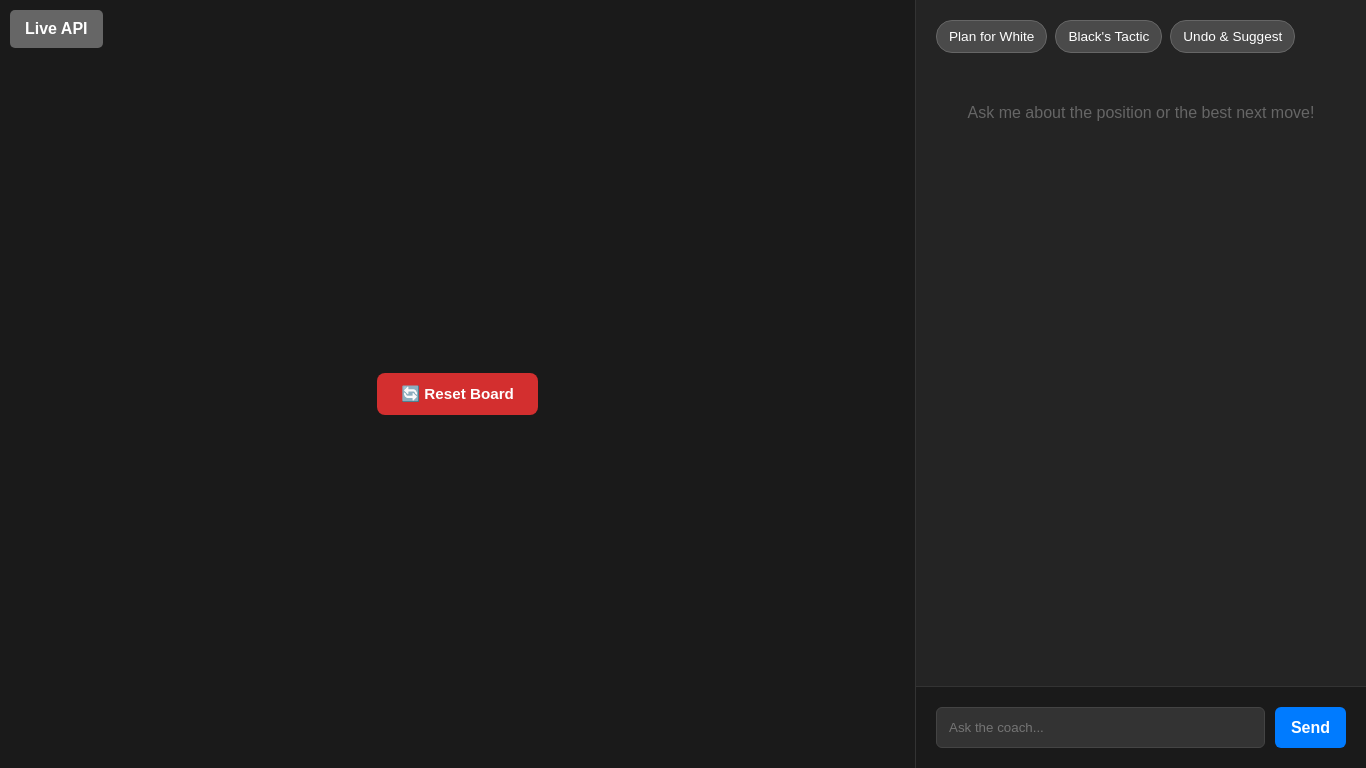
Test: Verification Harness - Desync Detection › VERIFICATION: System handles illegal moves without crashing or desyncing
The image size is (1366, 768).
In the field with placeholder "Ask the coach...": (1100, 728) [936,707,1265,748], type "Test illegal move handling"
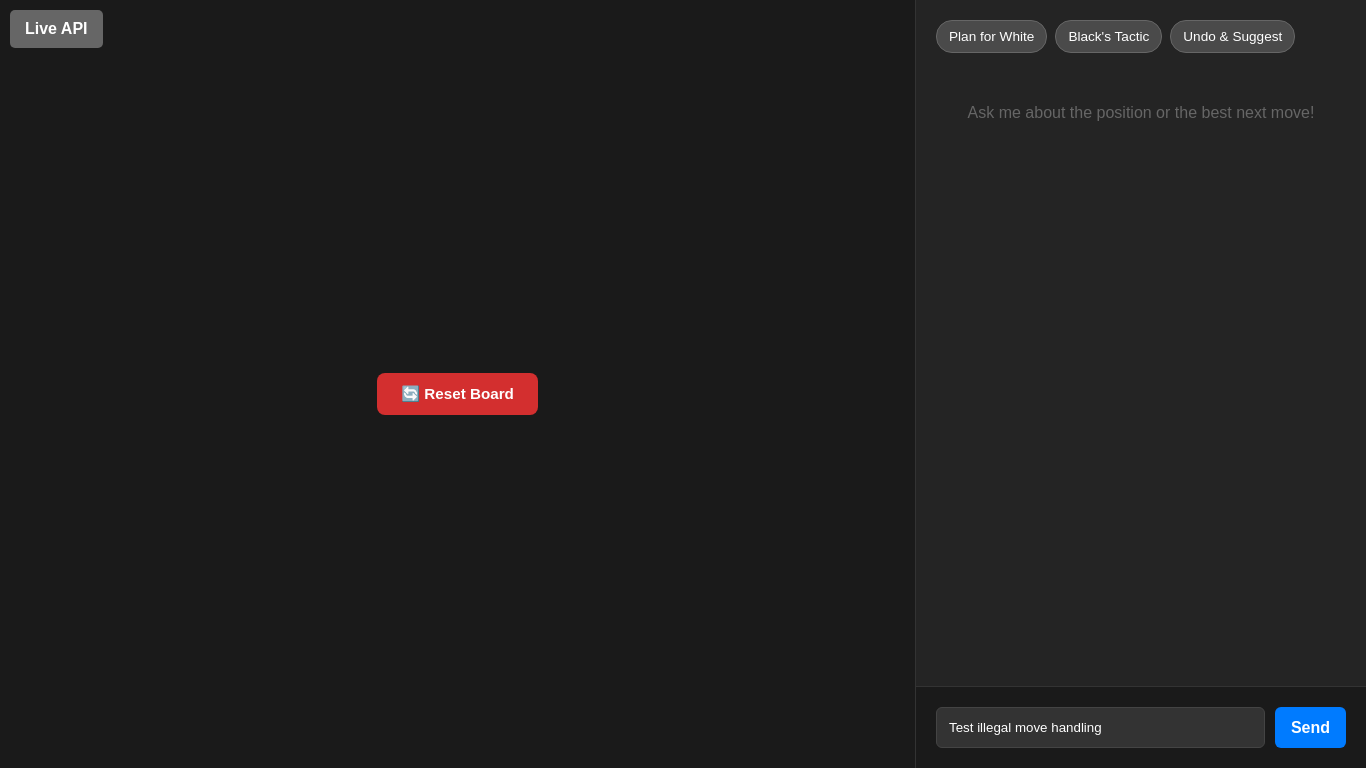
Click the button "Send": (1310, 728) [1275,707,1346,748]
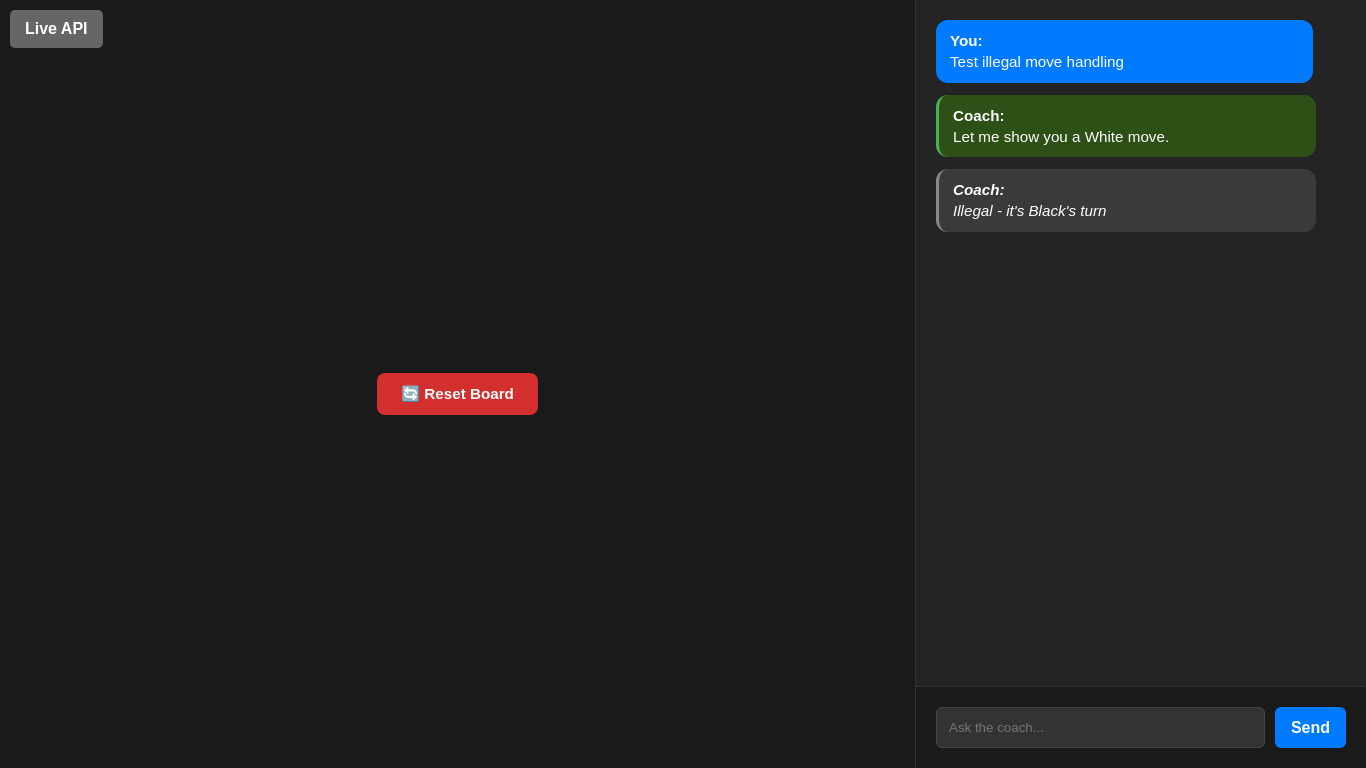
Expected: the field with placeholder "Ask the coach..." is shown, [936,707,1265,748]
Expected: the text "Coach:Let me show you a White move." is shown, [936,95,1316,157]
